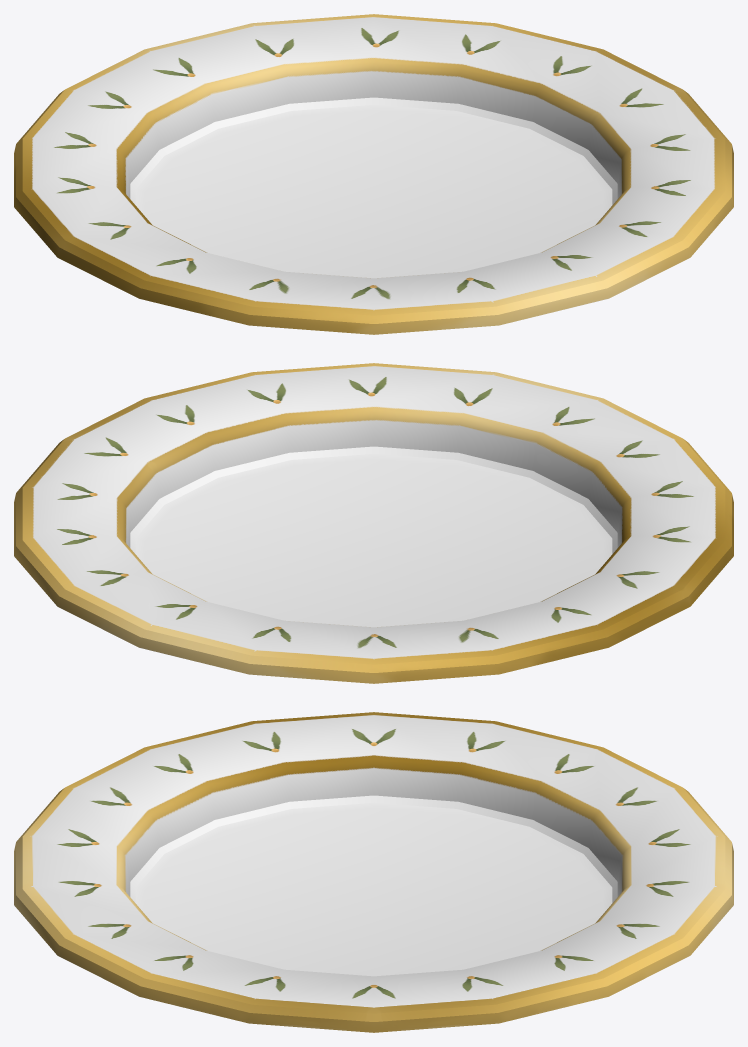
The model's file is plate.fbx.
3 views of the same model, one above another, from view 1: azimuth 30°, elevation 25°; view 2: azimuth 150°, elevation 25°; view 3: azimuth 270°, elevation 25° (orthographic).
Visible parts, largest first — view 1: Cylinder002; view 2: Cylinder002; view 3: Cylinder002.
Boxes of the visible parts, x1,y1,x2,y2 form: Cylinder002: [14, 14, 733, 334]; Cylinder002: [14, 363, 733, 683]; Cylinder002: [14, 712, 733, 1032].
Bounding box in the file's own units: 37.31 × 2.99 × 36.75.
Materials: 1 (1 with a texture image).
